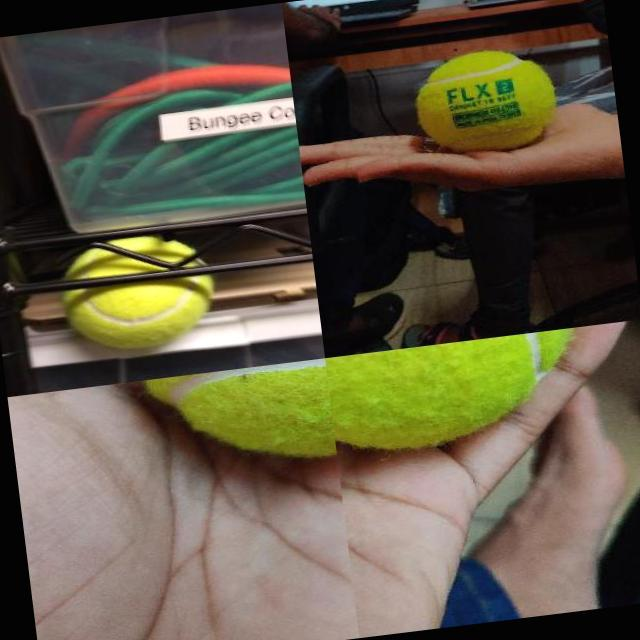Tennis Ball: (325, 326, 591, 456), (130, 358, 335, 479), (55, 229, 222, 358), (412, 43, 560, 155)
